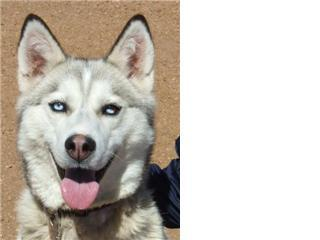dog: (16, 14, 164, 239)
